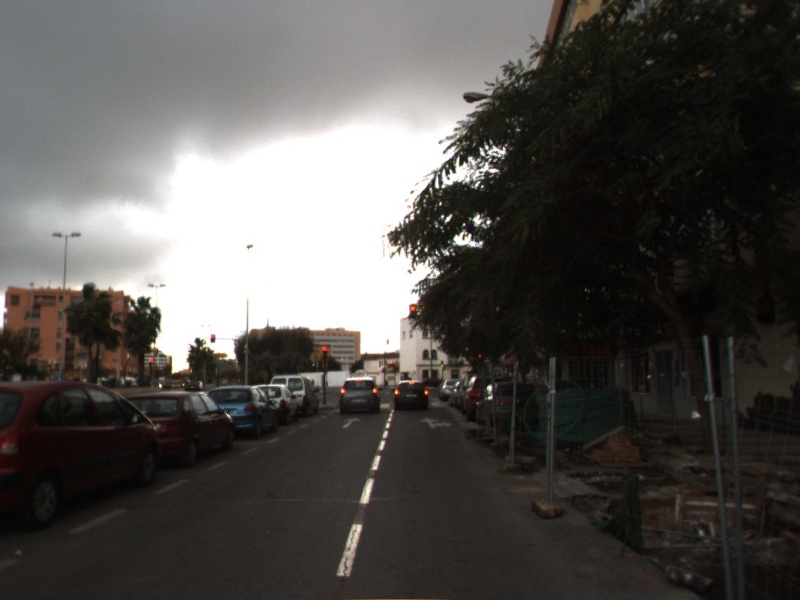STRAIGHT: (340, 416, 363, 429)
STRAIGHT_RIGHT: (418, 415, 454, 430)
